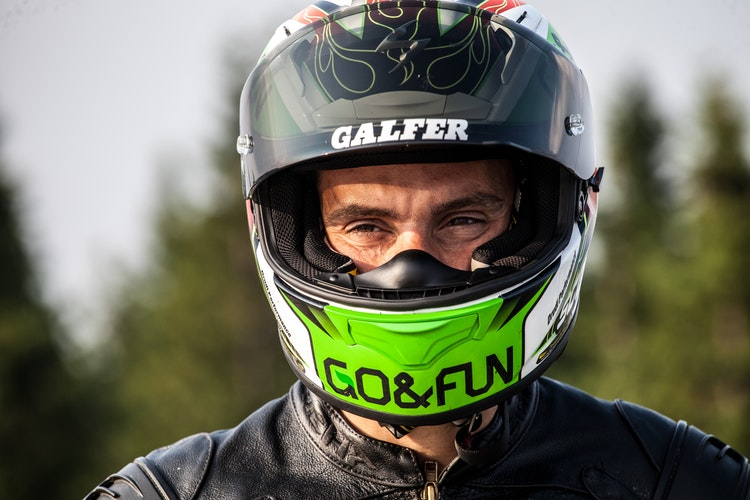helmet: (233, 17, 609, 377)
